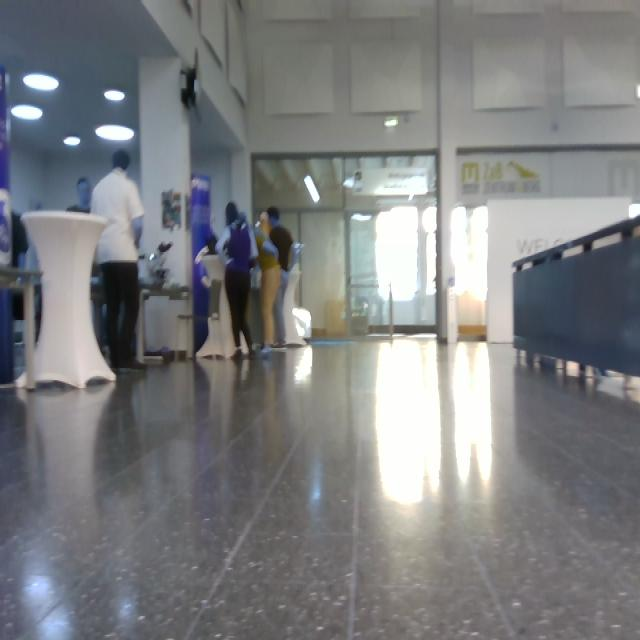door: (346, 204, 437, 334)
light bulb: (23, 73, 60, 92), (292, 306, 312, 340), (95, 124, 135, 141), (11, 104, 44, 121), (304, 174, 321, 204), (104, 89, 126, 102), (628, 202, 640, 220)
person: (90, 149, 148, 372), (215, 202, 260, 360), (254, 211, 281, 355), (267, 206, 294, 348), (66, 177, 93, 213)
tiled floor: (2, 335, 639, 639)
